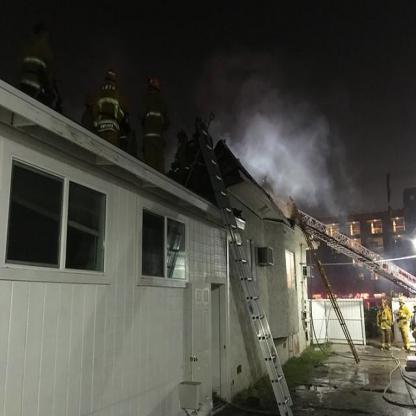smoke: (228, 92, 352, 208)
